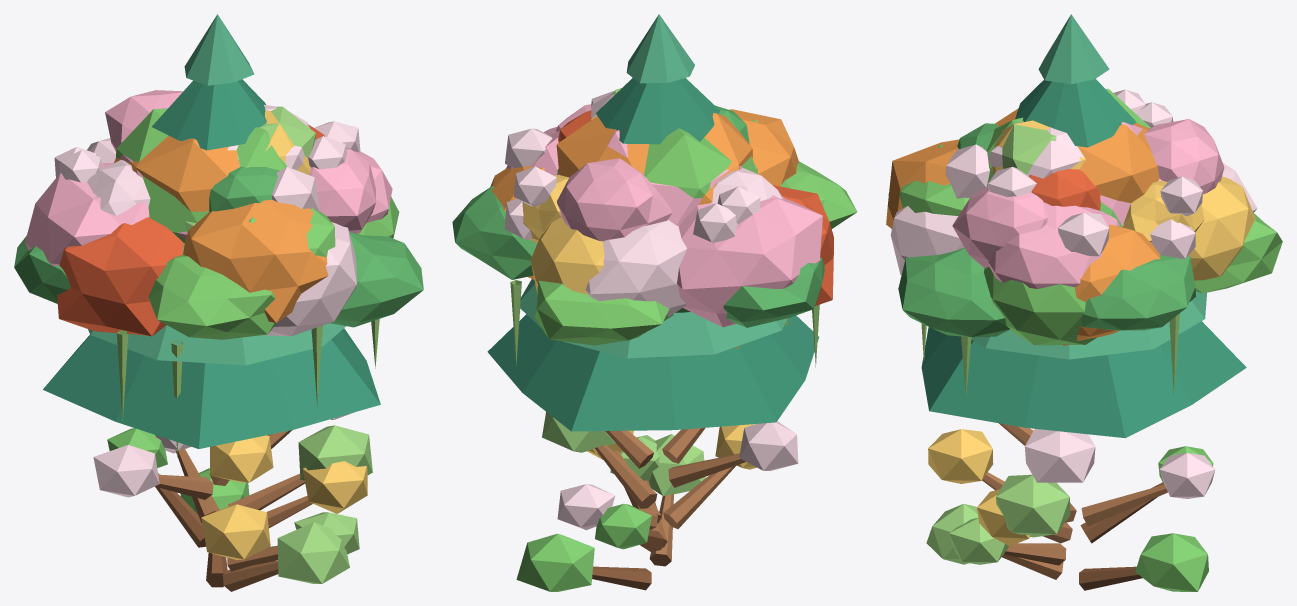
The model's file is forest_trees.glb.
The picture shows the model from 3 angles, left to right: view 1: azimuth 30°, elevation 25°; view 2: azimuth 150°, elevation 25°; view 3: azimuth 270°, elevation 25°; orthographic projection.
Parts seen in each view (by area): view 1: canopy_pine, canopy_maple, canopy_blossom, canopy_ancient, canopy_oak; view 2: canopy_blossom, canopy_pine, canopy_ancient, canopy_maple, canopy_oak; view 3: canopy_pine, canopy_blossom, canopy_maple, canopy_ancient, canopy_oak.
Part boxes in pixels (<box>): canopy_pine: <box>43,14,380,448</box>; canopy_maple: <box>57,110,367,560</box>; canopy_blossom: <box>25,90,392,523</box>; canopy_ancient: <box>14,232,423,587</box>; canopy_oak: <box>116,106,399,591</box>; canopy_blossom: <box>504,91,822,530</box>; canopy_pine: <box>487,14,819,431</box>; canopy_ancient: <box>452,161,857,591</box>; canopy_maple: <box>490,109,833,529</box>; canopy_oak: <box>542,88,758,566</box>; canopy_pine: <box>921,14,1246,438</box>; canopy_blossom: <box>890,89,1257,525</box>; canopy_maple: <box>886,108,1255,545</box>; canopy_ancient: <box>888,194,1282,591</box>; canopy_oak: <box>899,88,1150,579</box>.
Bounding box in the file's own units: 7.78 × 12.39 × 7.81.
